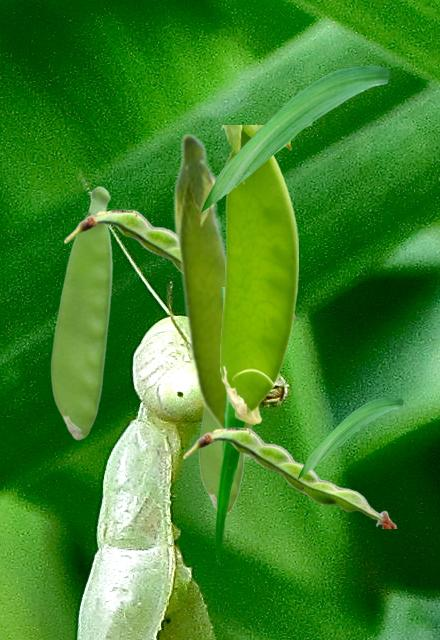pea: (172, 131, 255, 461), (64, 209, 295, 316), (220, 125, 297, 423), (183, 427, 396, 527), (50, 185, 112, 439), (198, 409, 244, 514)
